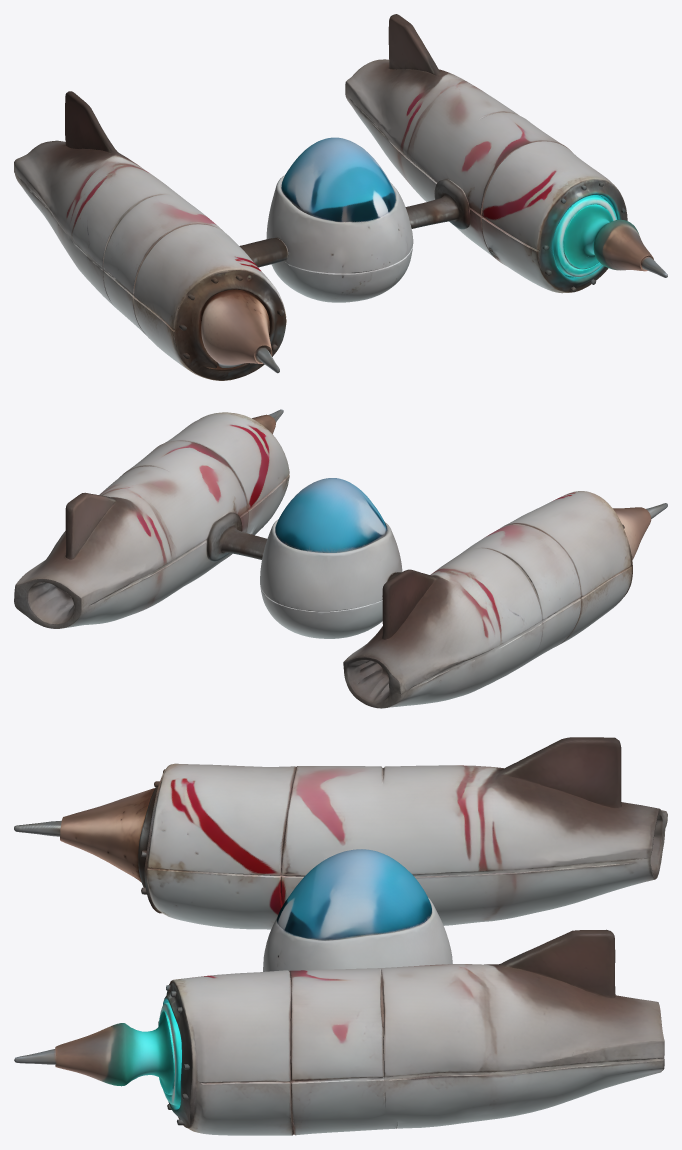
The model's file is dual_jet_racer.glb.
3 renders of one model, top to bottom at view 1: azimuth 30°, elevation 25°; view 2: azimuth 150°, elevation 25°; view 3: azimuth 270°, elevation 25°, orthographic. The views are drawn at different scales.
Parts seen in each view (by area): view 1: model; view 2: model; view 3: model.
Part boxes in pixels (left/top/right/bottom): model: left=14, top=14, right=667, bottom=380; model: left=14, top=409, right=667, bottom=708; model: left=14, top=737, right=667, bottom=1135.
Size of the model in its own units: 1.86 by 0.6198 by 1.89.
1 material, 1 textured.
